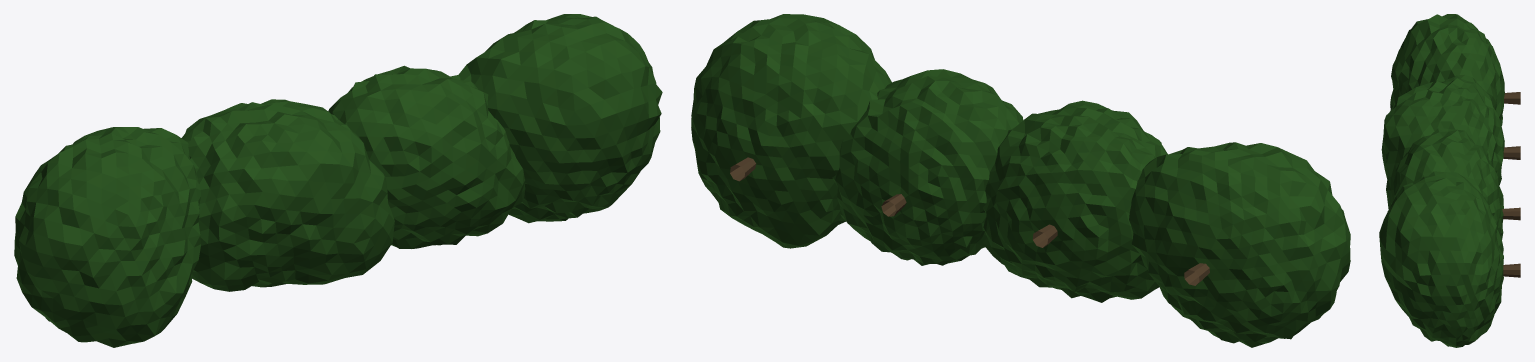
Rendered from citrus_run4_b.obj.
3 renders of one model, left to right at view 1: azimuth 30°, elevation 25°; view 2: azimuth 150°, elevation 25°; view 3: azimuth 270°, elevation 25°, orthographic. The views are drawn at different scales.
Parts seen in each view (by area): view 1: canopy; view 2: canopy, trunk; view 3: canopy, trunk.
Part boxes in pixels (x1,y1,x2,y2): canopy: (14,14,662,347); canopy: (691,14,1350,347); trunk: (730,157,1209,285); canopy: (1379,14,1504,347); trunk: (1502,92,1520,277).
Size of the model in its own units: 12.63 by 3.95 by 3.2.
